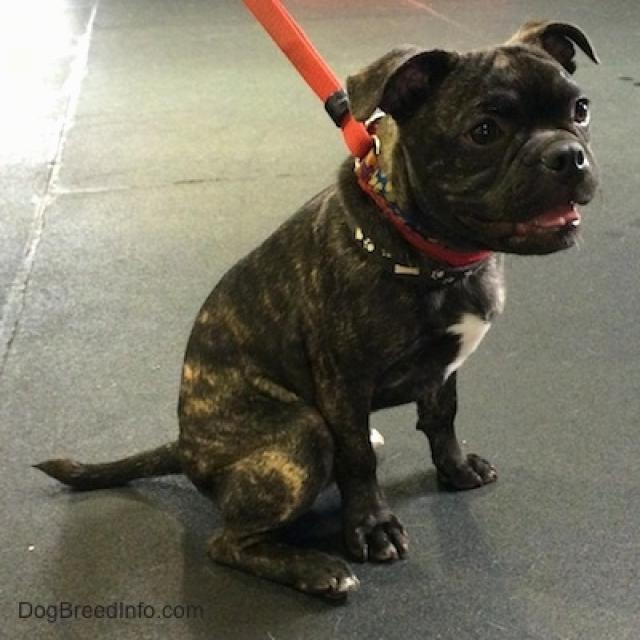dog: (284, 17, 640, 298)
